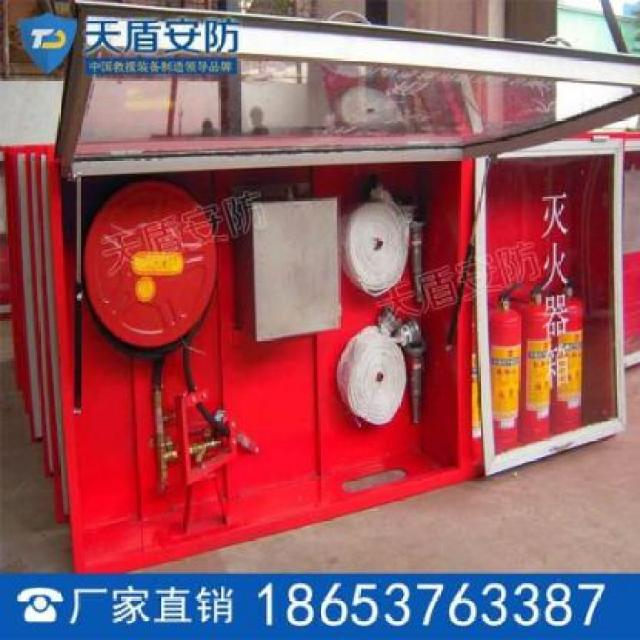firehydrant: (41, 0, 640, 571)
